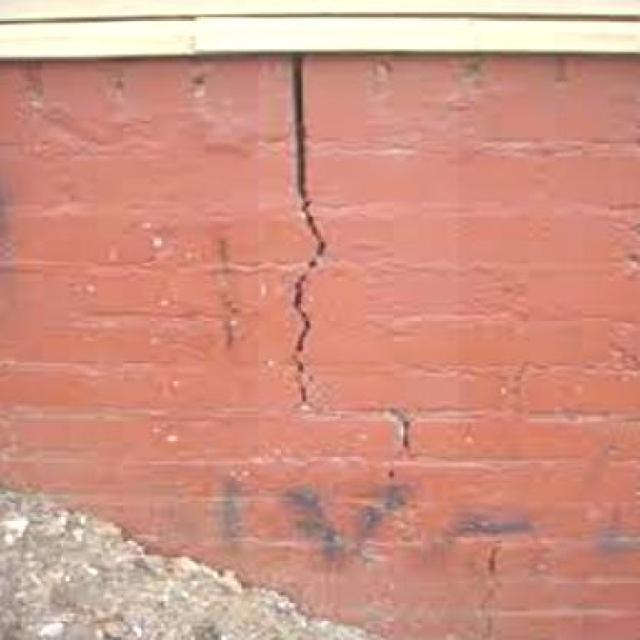Crack: (254, 58, 477, 454)
